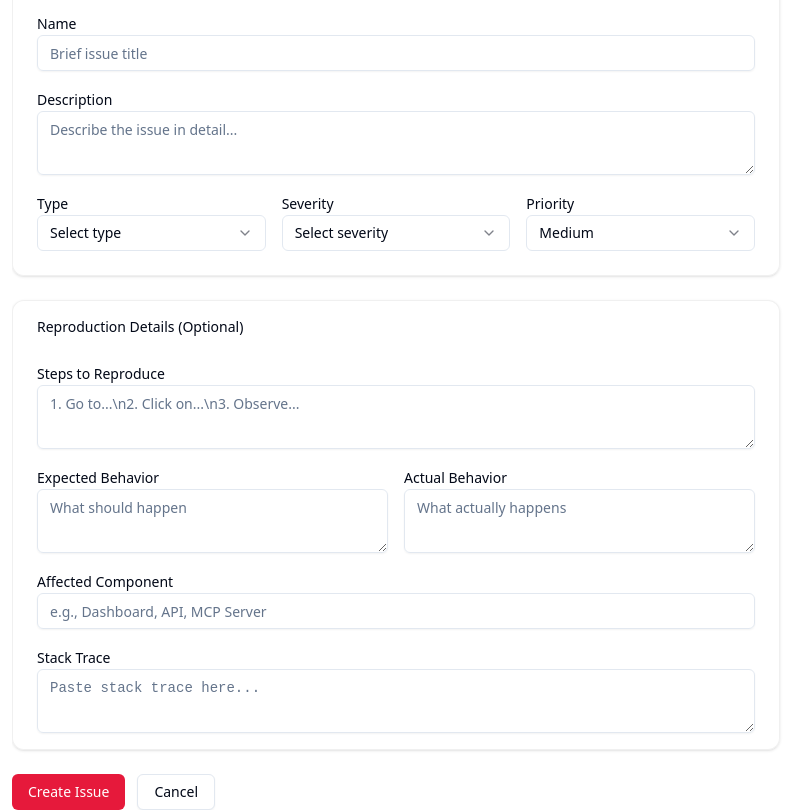
Scenario: IssueCreatePage › validates required fields on empty submit
The image size is (797, 810).
(page scrolled)
What coordinates should you click on to do the following:
click the button "Create Issue"
I would click on:
 (69, 792)
Its box is [12,774,125,809].
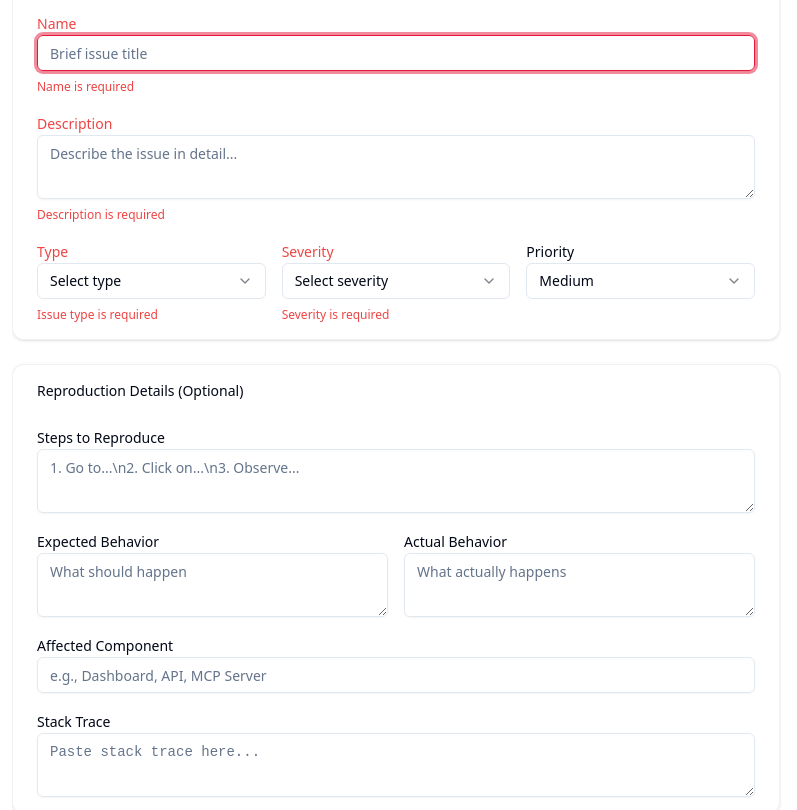
Check: the text "Name is required" is shown, box [37,78,134,95]
Check: the text "Description is required" is shown, box [37,206,165,223]
Check: the text "Issue type is required" is shown, box [37,306,158,323]
